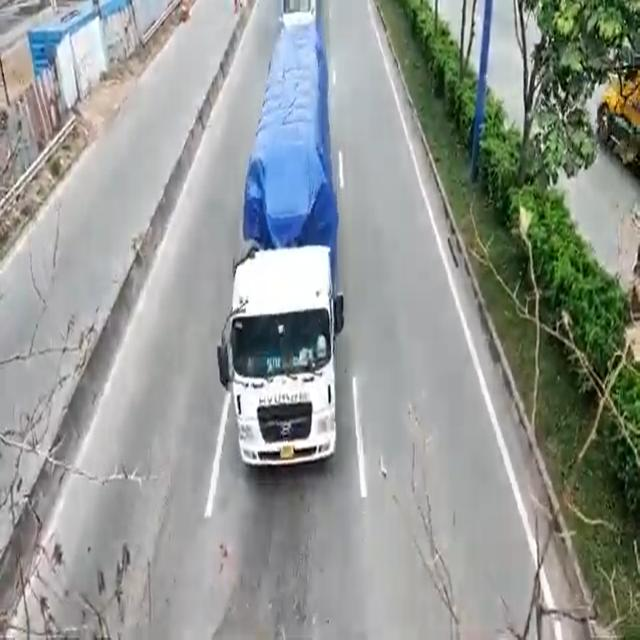truck: (229, 38, 337, 465)
